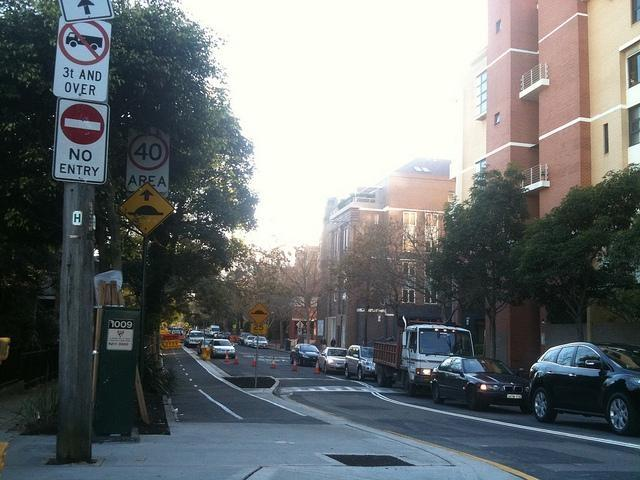car: (527, 342, 639, 432), (430, 356, 534, 414), (344, 345, 376, 381), (318, 346, 348, 374), (290, 344, 320, 366), (208, 339, 237, 359), (196, 339, 212, 354), (253, 336, 270, 348), (238, 332, 252, 346), (244, 336, 256, 346), (170, 327, 182, 334), (212, 332, 224, 338), (220, 331, 230, 338)
truck: (374, 320, 474, 398)
